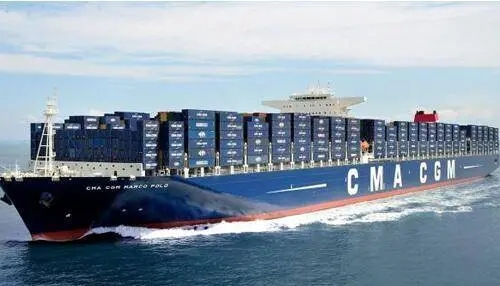Cargoship: (2, 80, 500, 244)
